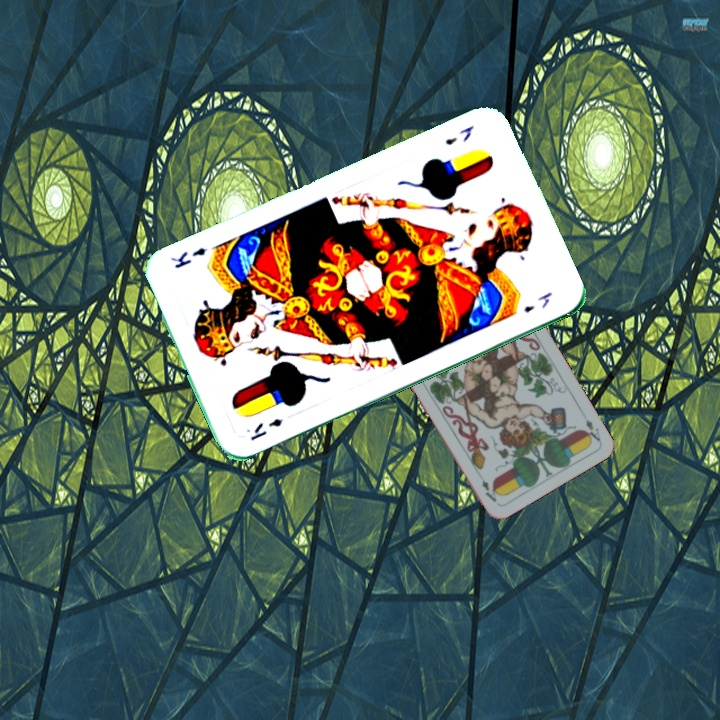EA: (580, 415, 603, 446)
EK: (246, 414, 285, 443), (441, 122, 476, 148)
